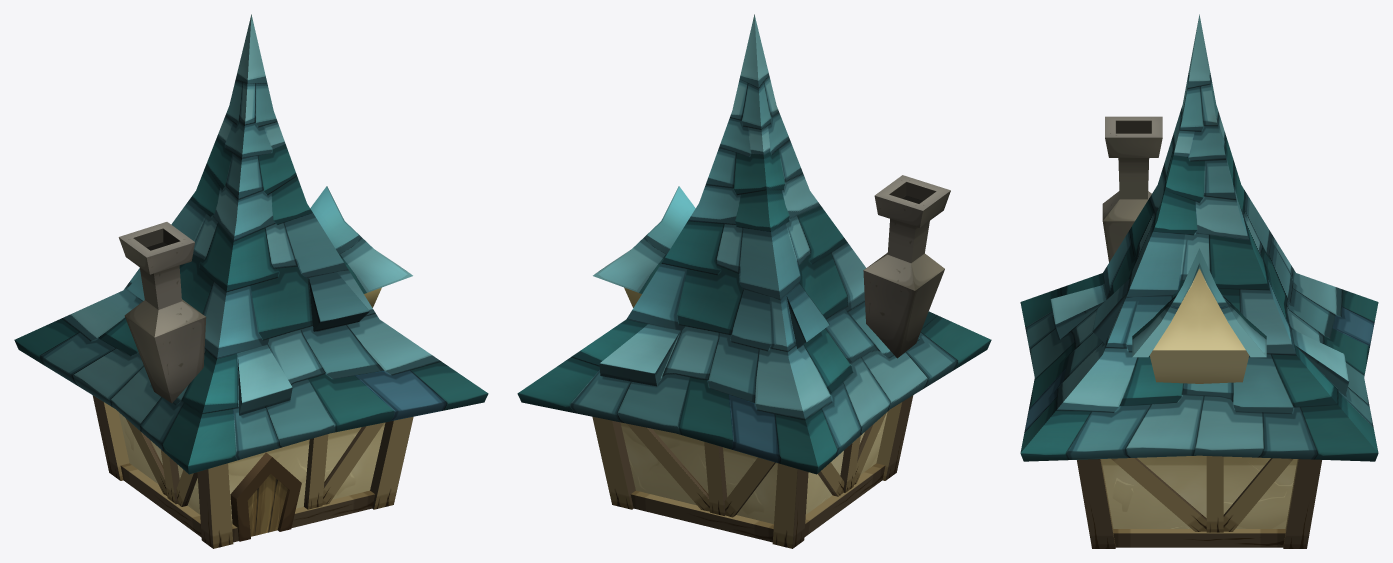
The model's file is Normal_house.fbx.
3 renders of one model, left to right at view 1: azimuth 30°, elevation 25°; view 2: azimuth 150°, elevation 25°; view 3: azimuth 270°, elevation 25°, orthographic. The views are drawn at different scales.
Parts seen in each view (by area): view 1: Normal_house; view 2: Normal_house; view 3: Normal_house.
Boxes of the visible parts, x1=… form: Normal_house: x1=14, y1=14, x2=488, y2=548; Normal_house: x1=517, y1=14, x2=991, y2=548; Normal_house: x1=1020, y1=14, x2=1378, y2=548.
Size of the model in its own units: 13.69 by 20.63 by 13.68.
